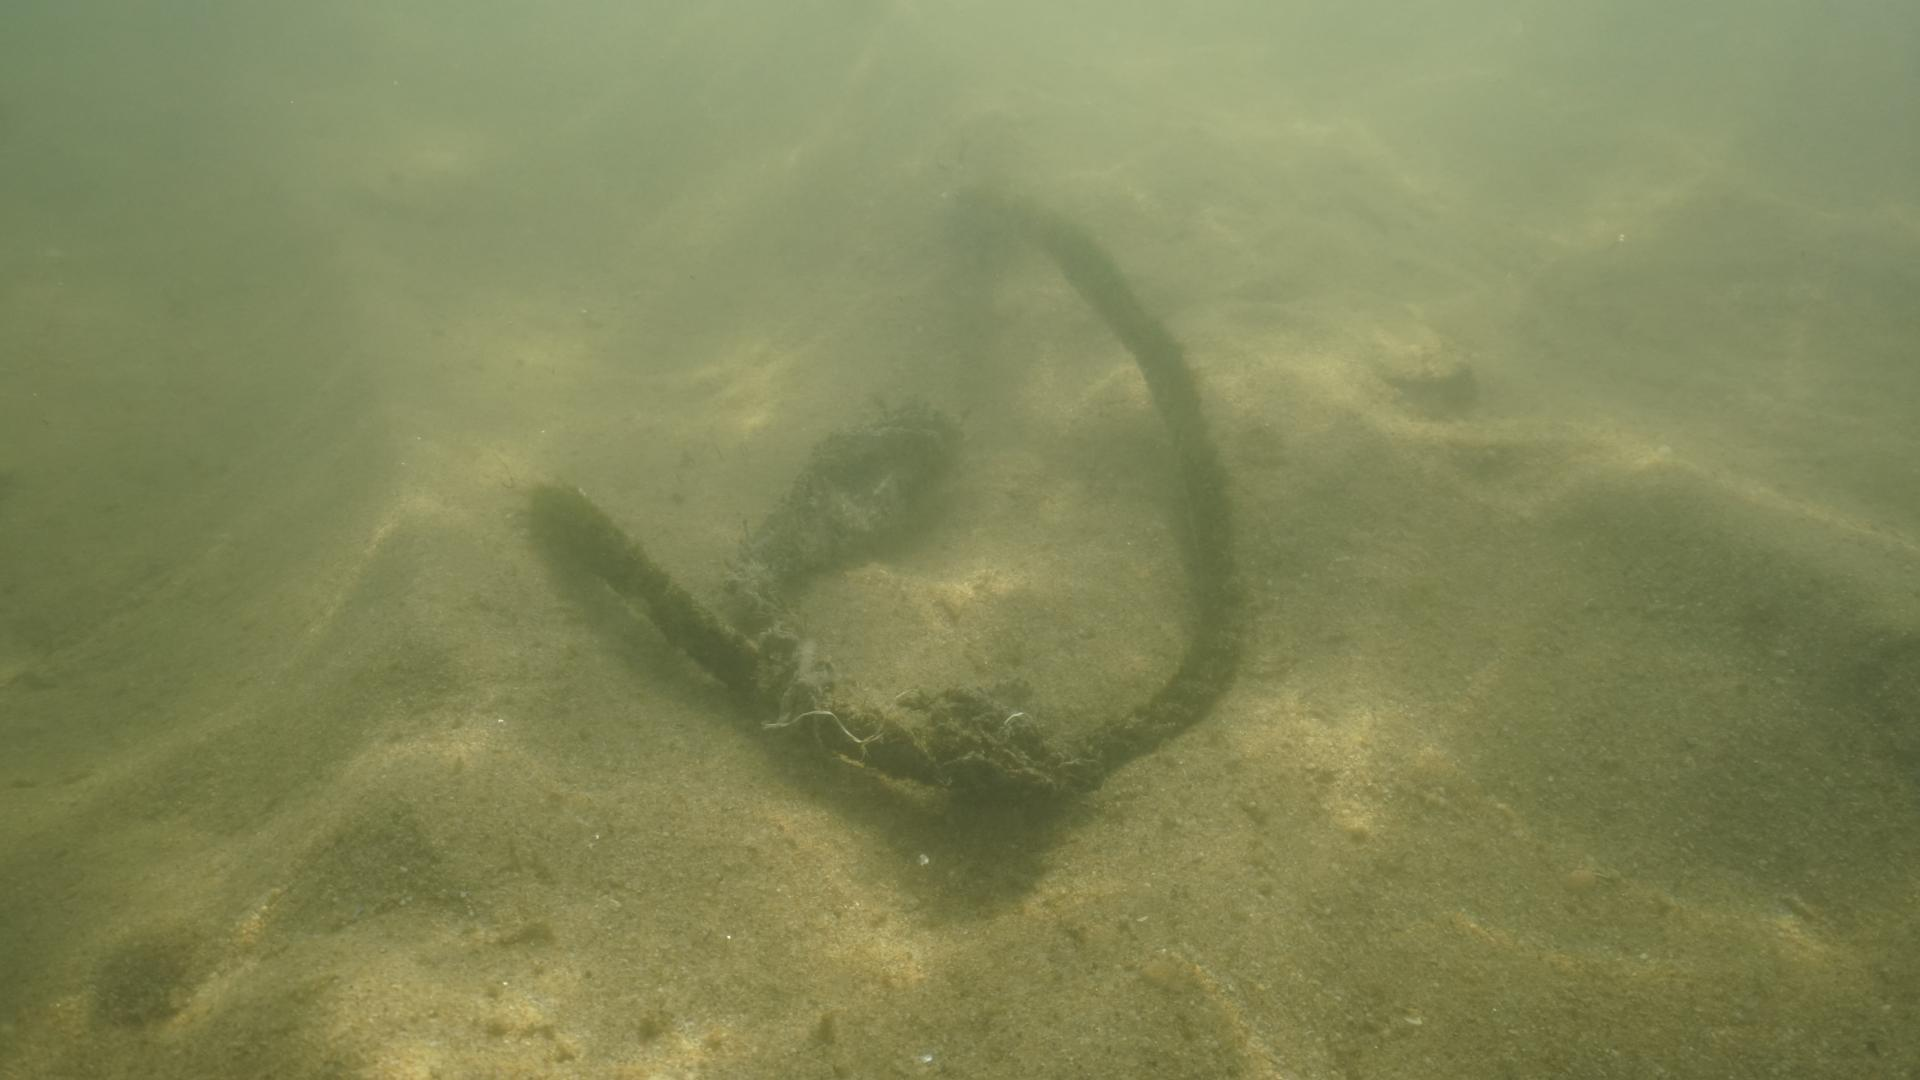rope: (525, 177, 1241, 794)
